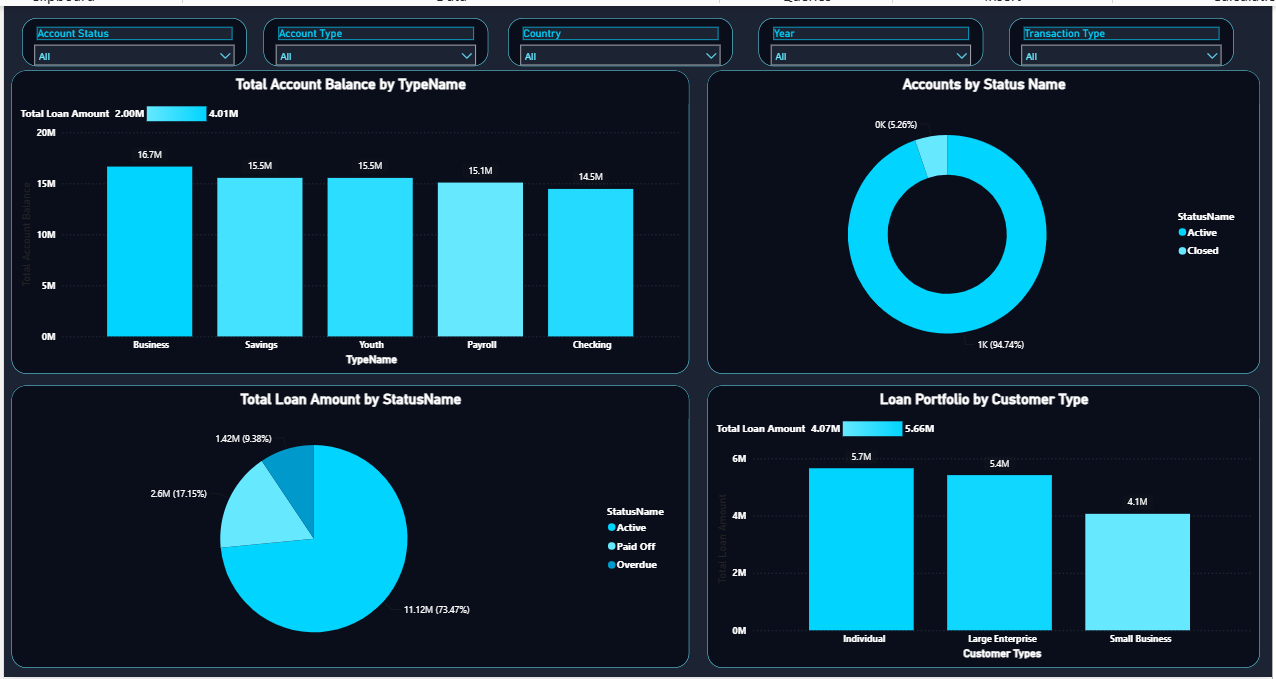

The dashboard page shown, as its layout file describes it:
{"tool":"powerbi","page":{"name":"Account & Loan Analytics","canvas":[1700,900],"ordinal":2},"visuals":[{"type":"columnChart","fields":{"Category":["enterpricebankinganalyticsdb account_types.TypeName"],"Y":["enterpricebankinganalyticsdb accounts.Total Account Balance"]},"box":[10.1,87,908.8,406.8],"z":0},{"type":"donutChart","title":"Accounts by Status Name","fields":{"Category":["enterpricebankinganalyticsdb account_statuses.StatusName"],"Y":["enterpricebankinganalyticsdb accounts.Accounts"]},"box":[943.2,87,740.8,406.8],"z":1000},{"type":"pieChart","fields":{"Category":["enterpricebankinganalyticsdb loan_statuses.StatusName"],"Y":["enterpricebankinganalyticsdb loans.Total Loan Amount"]},"box":[10.1,508,908.8,378.5],"z":2000},{"type":"clusteredColumnChart","title":"Loan Portfolio by Customer Type","fields":{"Y":["enterpricebankinganalyticsdb loans.Total Loan Amount"],"Category":["enterpricebankinganalyticsdb customer_types.TypeName"]},"box":[943.2,508,740.8,392.7],"z":3000},{"type":"slicer","fields":{"Values":["enterpricebankinganalyticsdb account_statuses.StatusName"]},"box":[24.3,16.2,301.6,64.8],"z":3001},{"type":"slicer","fields":{"Values":["enterpricebankinganalyticsdb account_types.TypeName"]},"box":[348.1,16.2,301.6,64.8],"z":3002},{"type":"slicer","fields":{"Values":["enterpricebankinganalyticsdb transactions.TransactionDate.Variation.Date Hierarchy.Year"]},"box":[1012,16.2,301.6,64.8],"z":3003},{"type":"slicer","fields":{"Values":["enterpricebankinganalyticsdb addresses.Country"]},"box":[676,16.2,301.6,64.8],"z":3004},{"type":"slicer","fields":{"Values":["enterpricebankinganalyticsdb transaction_types.TypeName"]},"box":[1348,16.2,301.6,64.8],"z":3005}]}

Visuals, with their boxes in screenshot pixels (x1, y1, x2, y2), scaled from the page's 1700x900 canvas onto the 1276x679 screenshot:
columnChart - enterpricebankinganalyticsdb account_types.TypeName x enterpricebankinganalyticsdb accounts.Total Account Balance: {"left": 8, "top": 66, "right": 690, "bottom": 373}
"Accounts by Status Name" donutChart: {"left": 708, "top": 66, "right": 1264, "bottom": 373}
pieChart - enterpricebankinganalyticsdb loan_statuses.StatusName x enterpricebankinganalyticsdb loans.Total Loan Amount: {"left": 8, "top": 383, "right": 690, "bottom": 669}
"Loan Portfolio by Customer Type" clusteredColumnChart: {"left": 708, "top": 383, "right": 1264, "bottom": 678}
slicer - enterpricebankinganalyticsdb account_statuses.StatusName: {"left": 18, "top": 12, "right": 245, "bottom": 61}
slicer - enterpricebankinganalyticsdb account_types.TypeName: {"left": 261, "top": 12, "right": 488, "bottom": 61}
slicer - enterpricebankinganalyticsdb transactions.TransactionDate.Variation.Date Hierarchy.Year: {"left": 760, "top": 12, "right": 986, "bottom": 61}
slicer - enterpricebankinganalyticsdb addresses.Country: {"left": 507, "top": 12, "right": 734, "bottom": 61}
slicer - enterpricebankinganalyticsdb transaction_types.TypeName: {"left": 1012, "top": 12, "right": 1238, "bottom": 61}
